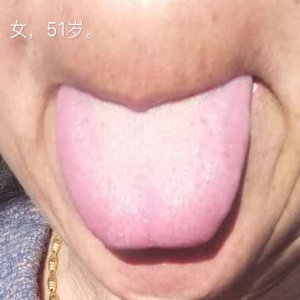st: (49, 94, 250, 254)
